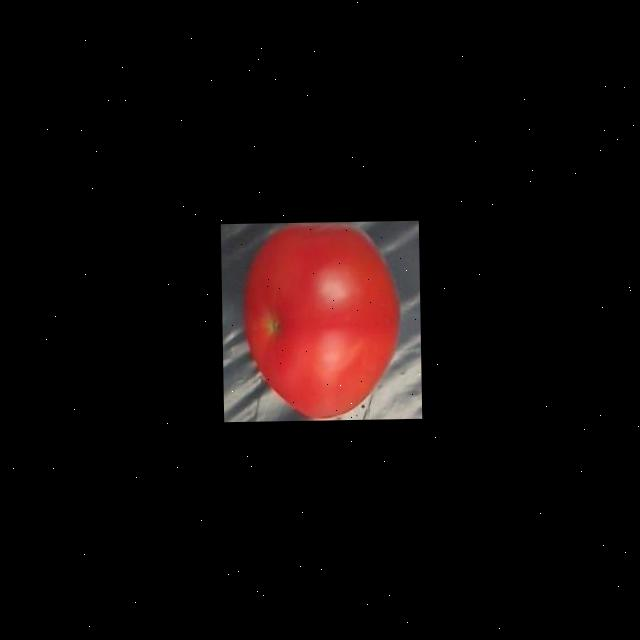tomato: (238, 222, 404, 420)
